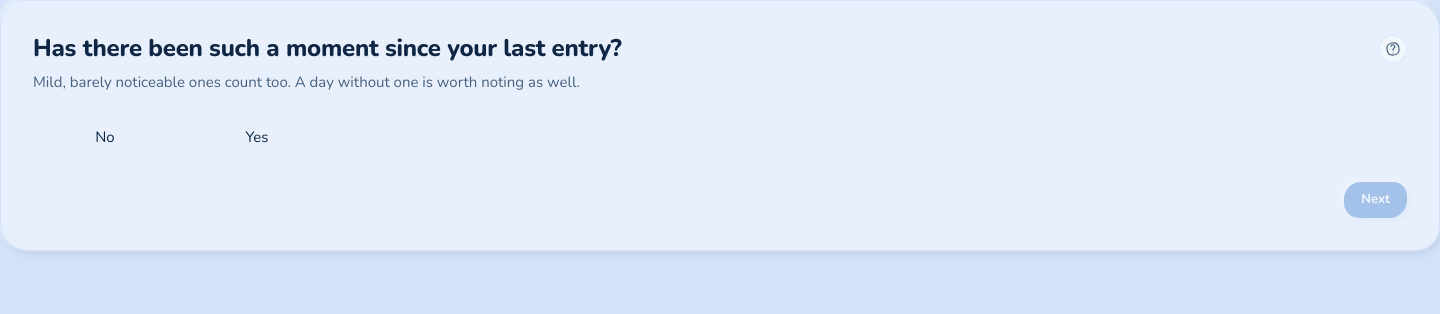
Test: MicroExerciseRunner choice branching (Momenty, anger variant) › requires a choice before moving on
Expected: the button "Next" is disabled, x1=1344 y1=182 x2=1407 y2=218
Click the radio button labelled "No": (105, 138) x1=33 y1=118 x2=177 y2=158
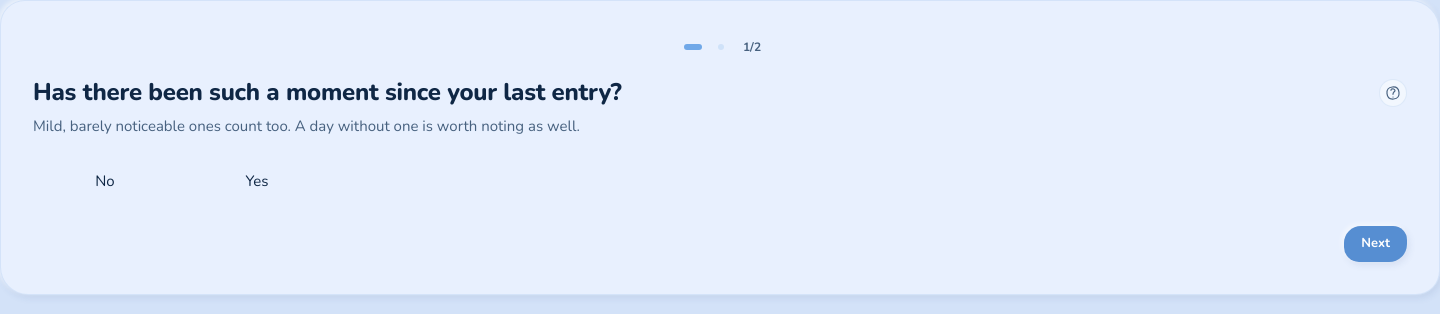
Now the button "Next" is enabled, box x1=1344 y1=226 x2=1407 y2=262
